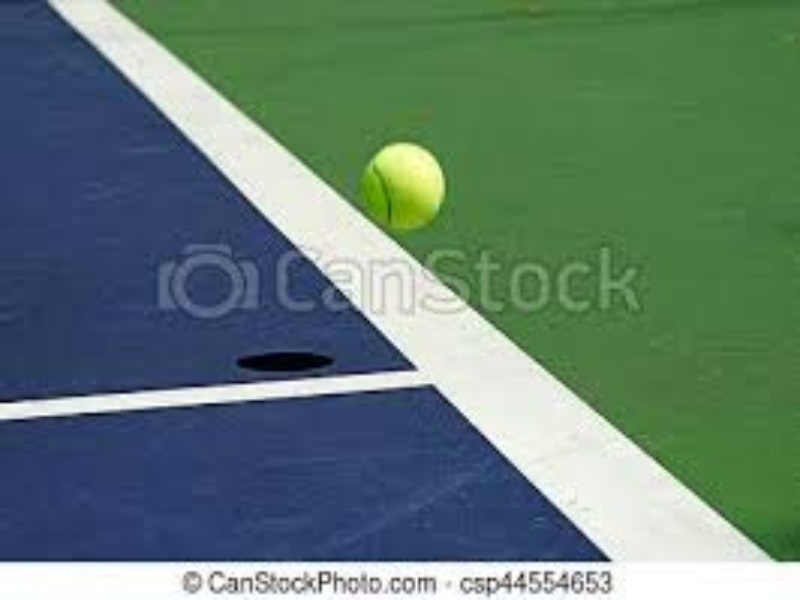tennis ball: (343, 131, 462, 244)
